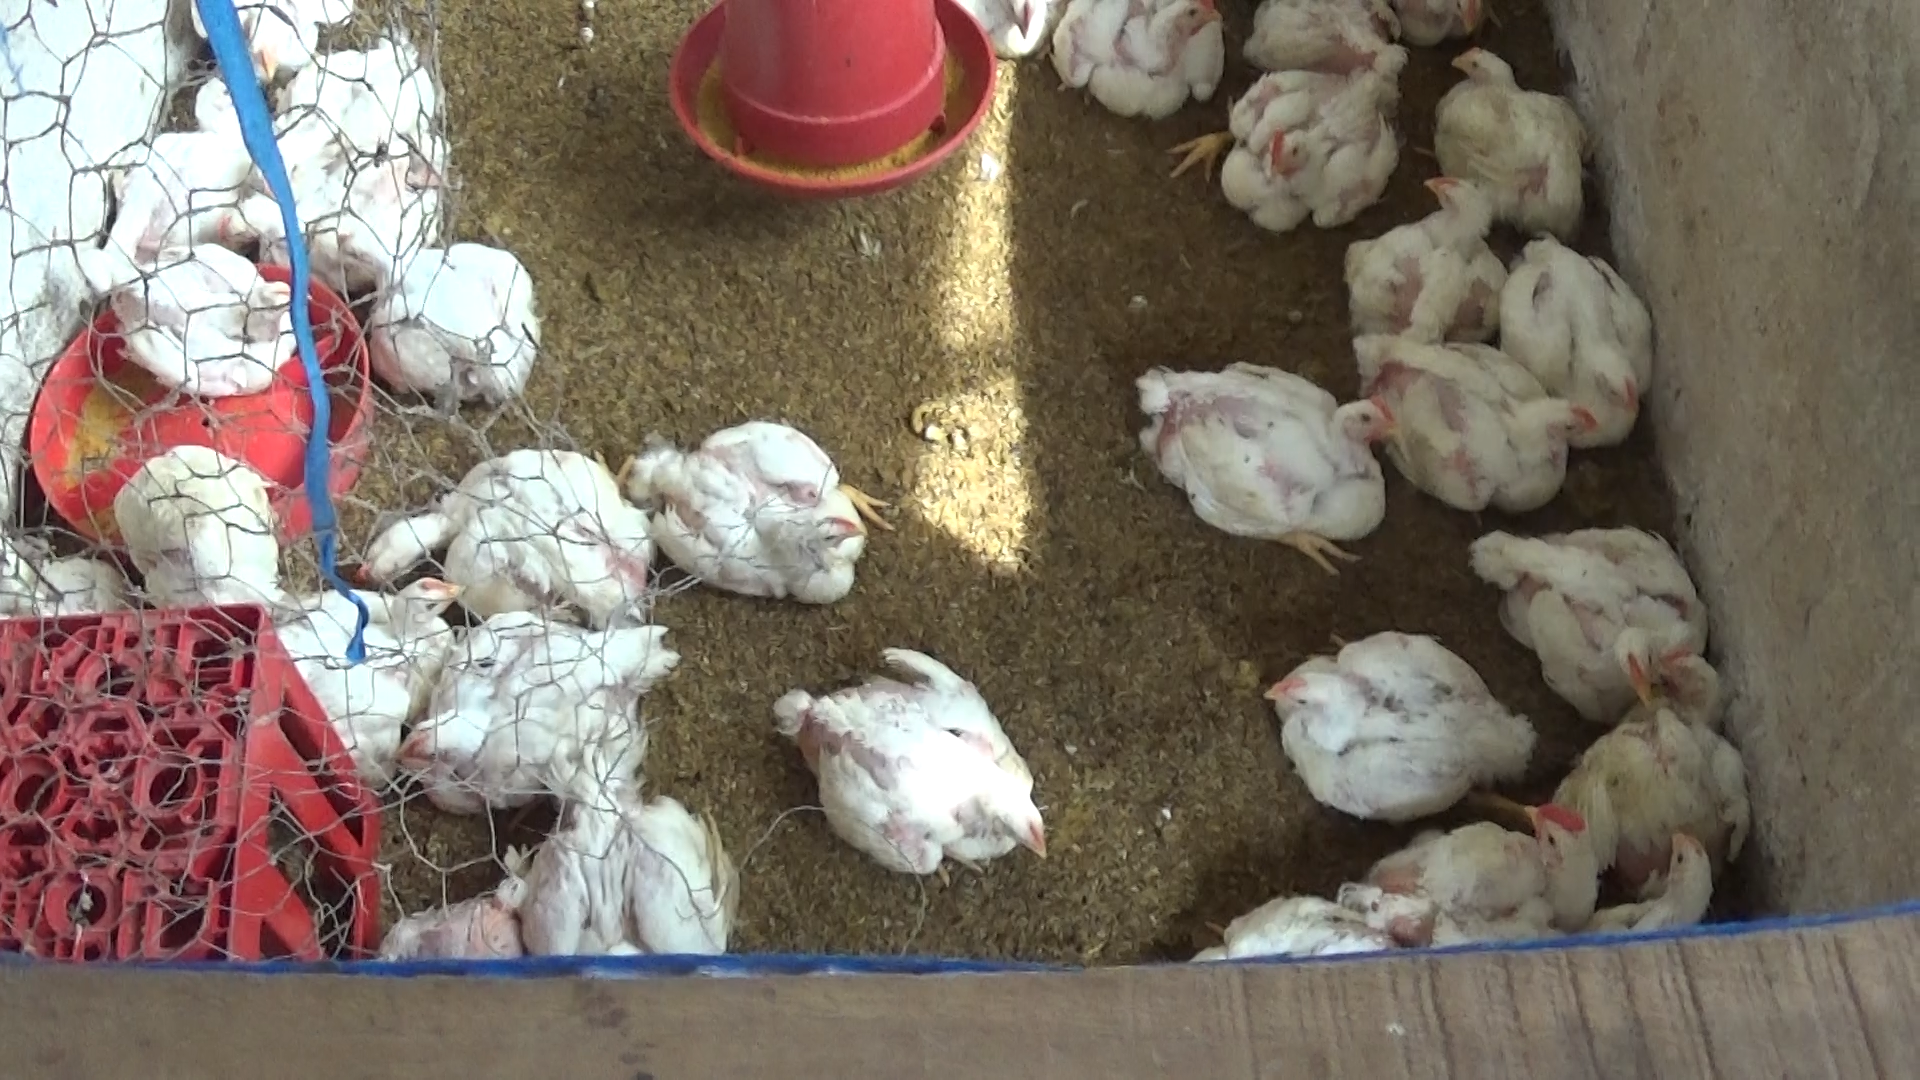Pollos: (760, 626, 1060, 868), (1121, 334, 1411, 578), (390, 588, 657, 839), (1255, 622, 1534, 828), (508, 721, 735, 971), (641, 419, 895, 615), (1581, 617, 1768, 880), (1352, 323, 1592, 524), (255, 567, 471, 766), (1493, 504, 1695, 713), (1499, 208, 1669, 456), (1185, 51, 1406, 239), (410, 456, 650, 622), (1352, 785, 1588, 948), (365, 239, 566, 418), (1431, 42, 1604, 232), (116, 436, 290, 618), (1332, 169, 1505, 348), (125, 232, 320, 388), (281, 44, 454, 212), (1567, 803, 1735, 957), (1042, 0, 1211, 123), (200, 0, 363, 87)
